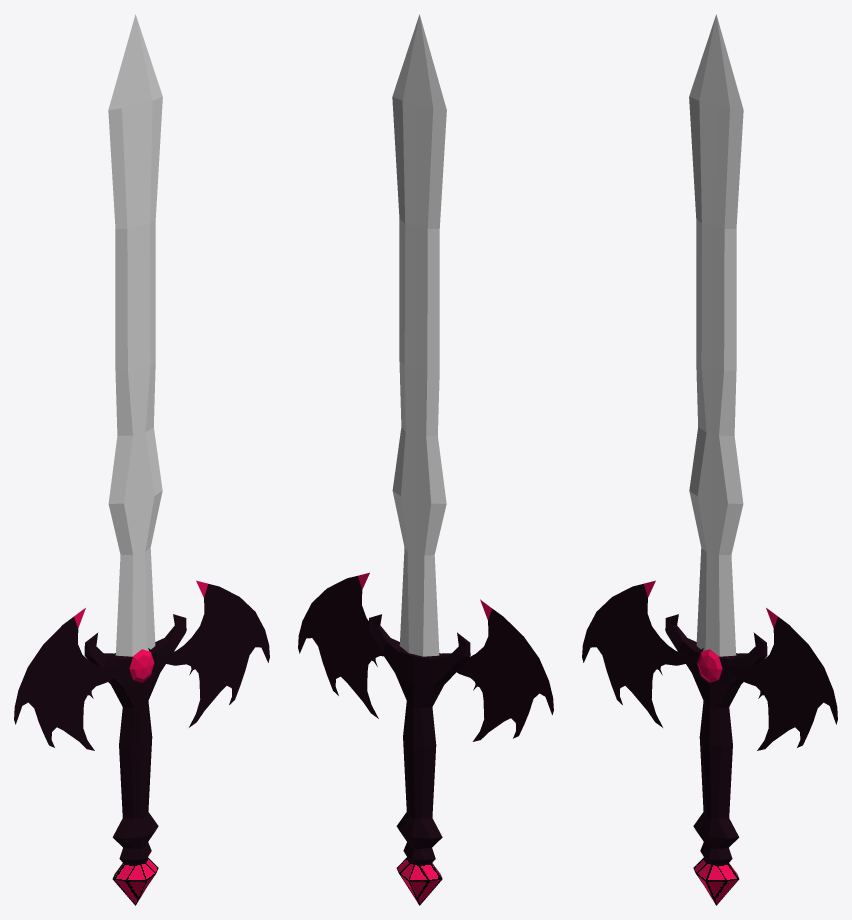
File: vampire_sword.glb
The picture shows the model from 3 angles, left to right: view 1: azimuth 30°, elevation 25°; view 2: azimuth 150°, elevation 25°; view 3: azimuth 330°, elevation 25°; orthographic projection.
Visible parts, largest first — view 1: NurbsPath; view 2: NurbsPath; view 3: NurbsPath.
Part boxes in pixels (bbox=[...]): NurbsPath: bbox=[14, 14, 269, 905]; NurbsPath: bbox=[298, 14, 553, 905]; NurbsPath: bbox=[582, 14, 837, 905].
Bounding box in the file's own units: 0.4917 × 1.64 × 0.072.
Materials: 4 (1 with a texture image).
